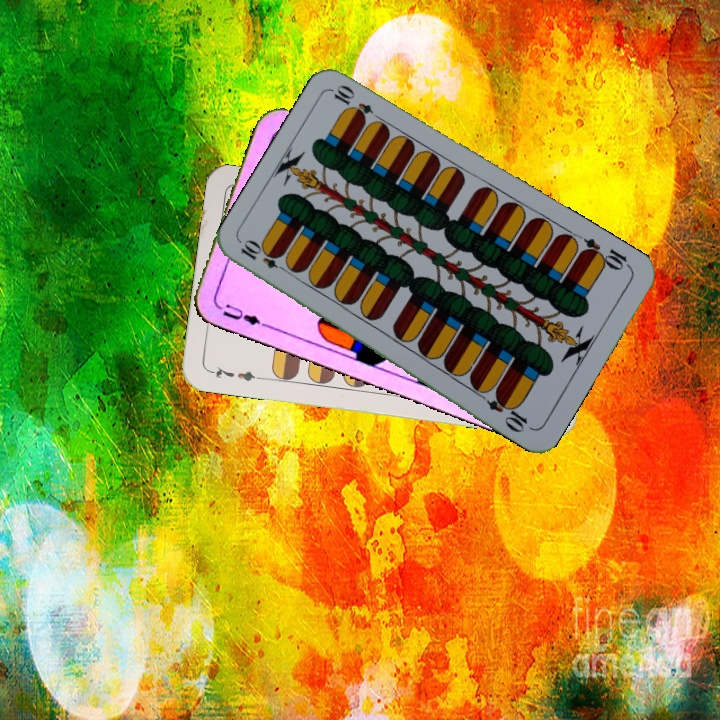E10: (576, 233, 634, 274), (236, 237, 292, 276)
E7: (205, 362, 264, 384)
EU: (213, 300, 270, 330)
